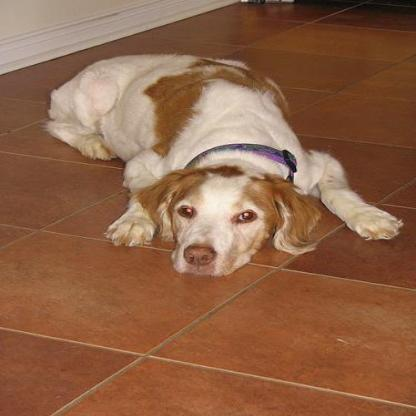Brittany_spaniel: (44, 53, 400, 276)
